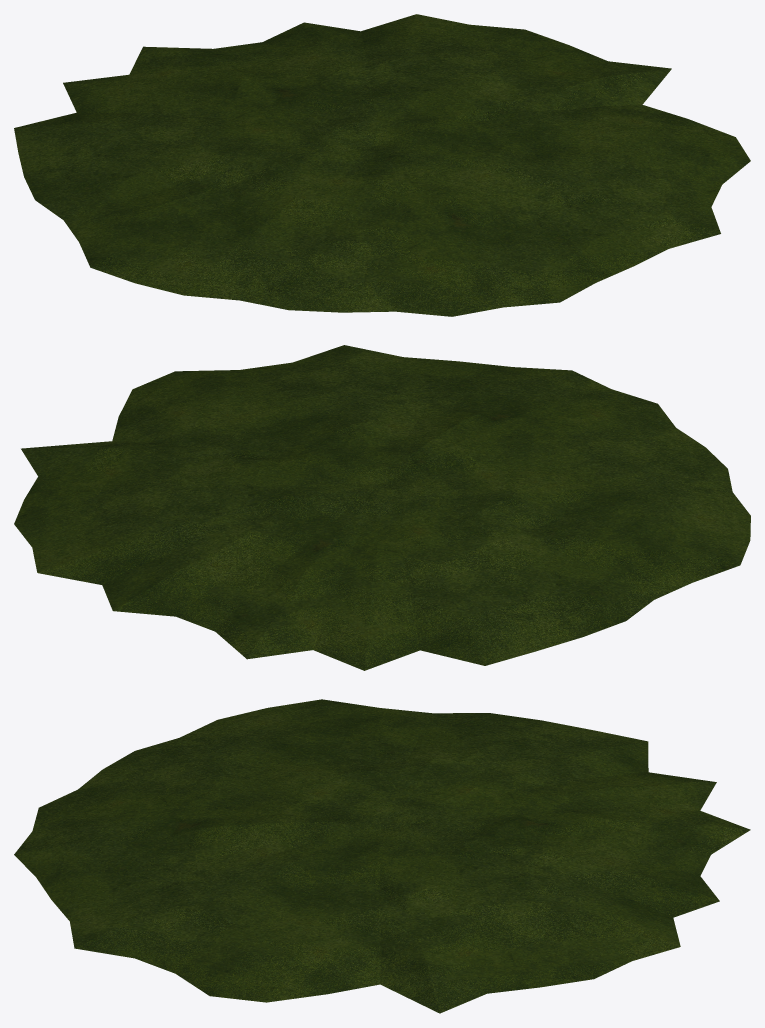
File: ground_moss_carpet_v02.glb
3 views of the same model, one above another, from view 1: azimuth 30°, elevation 25°; view 2: azimuth 150°, elevation 25°; view 3: azimuth 270°, elevation 25° (orthographic). The views are drawn at different scales.
Parts seen in each view (by area): view 1: ground_moss_carpet_v02; view 2: ground_moss_carpet_v02; view 3: ground_moss_carpet_v02.
Part boxes in pixels (bbox=[...]): ground_moss_carpet_v02: bbox=[14, 14, 750, 316]; ground_moss_carpet_v02: bbox=[14, 345, 750, 670]; ground_moss_carpet_v02: bbox=[14, 699, 750, 1013].
Bounding box in the file's own units: 1.07 × 0.0523 × 1.06.
1 material, 1 textured.
